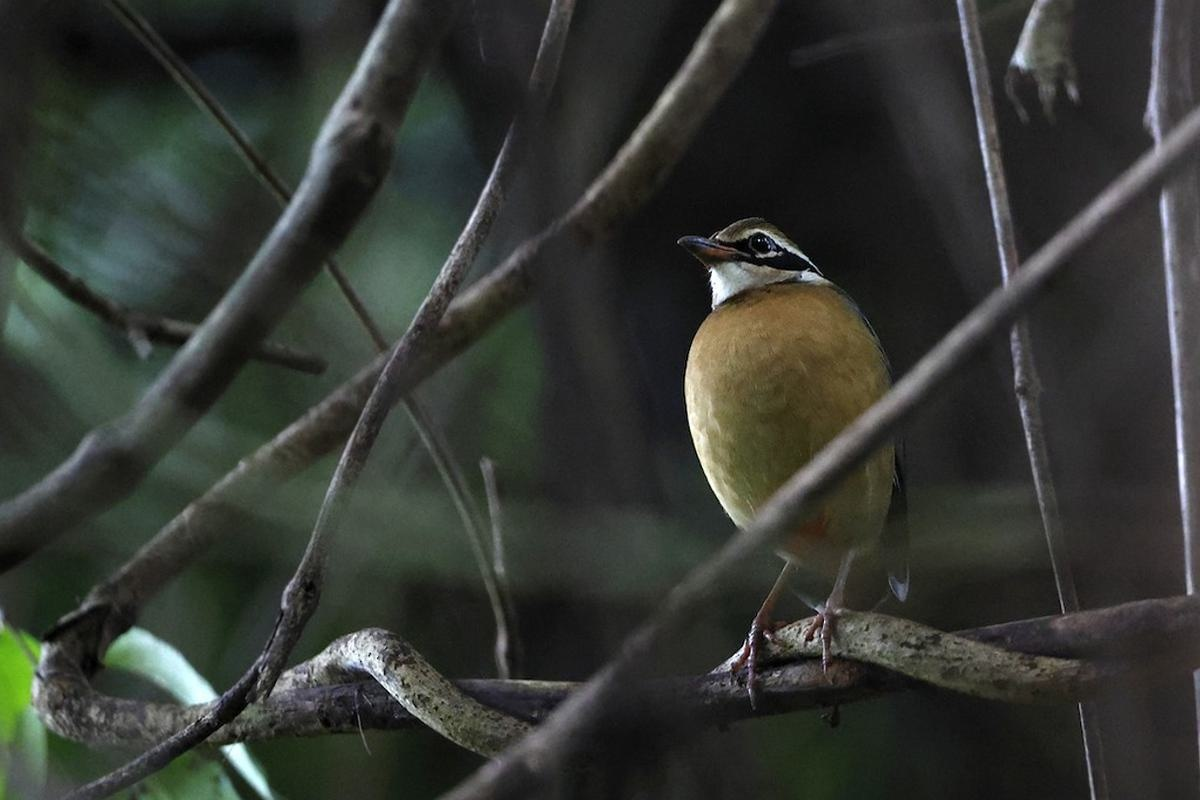pitta: (671, 198, 929, 725)
